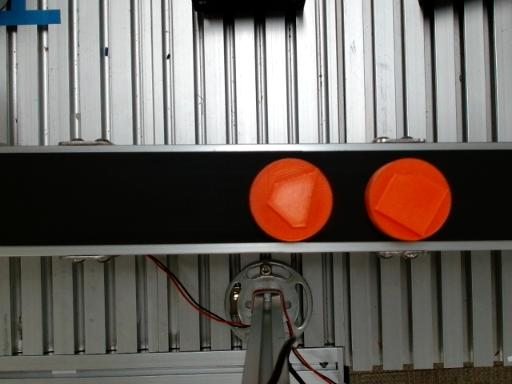Not_Square: (373, 171, 450, 236), (266, 169, 319, 228)
Orange_Waper: (365, 158, 451, 240), (250, 158, 333, 242)
